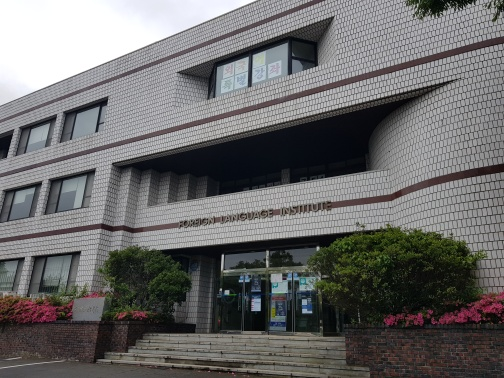Foreign Language Institute: (17, 15, 490, 366), (123, 182, 374, 368), (175, 23, 336, 96), (174, 196, 337, 227)
